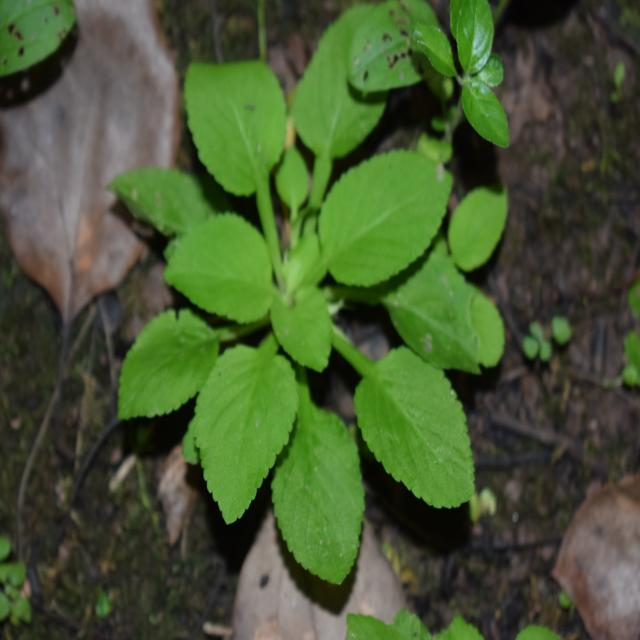Viola: (118, 20, 481, 557)
